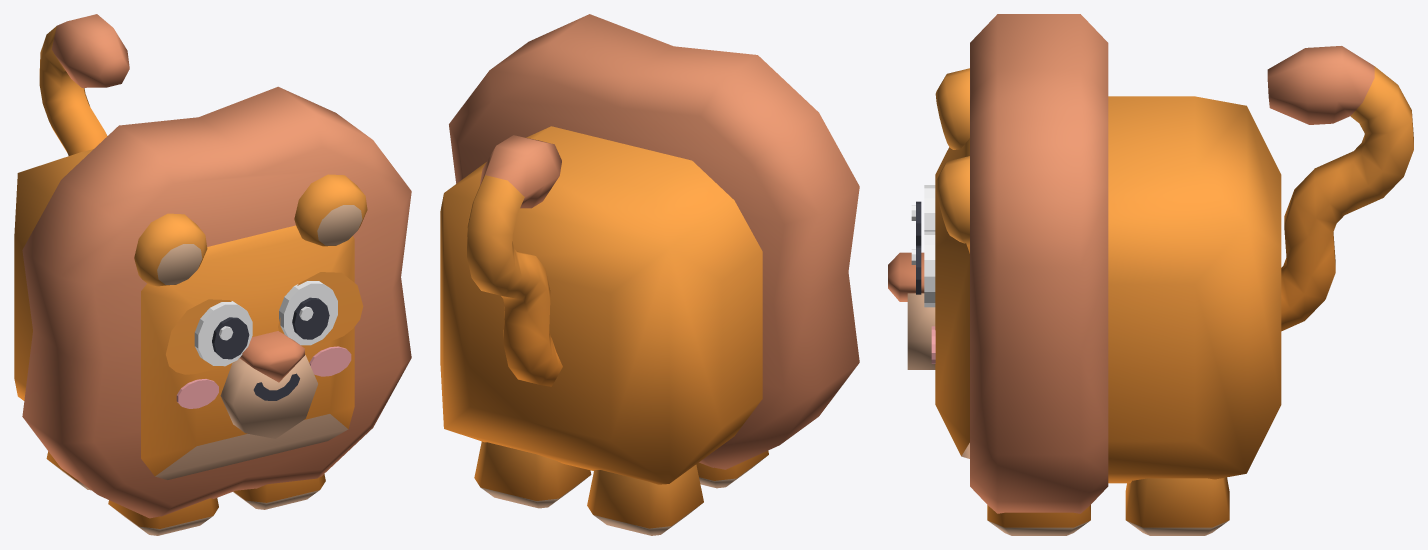
Rendered from lion.glb.
3 renders of one model, left to right at view 1: azimuth 30°, elevation 25°; view 2: azimuth 150°, elevation 25°; view 3: azimuth 270°, elevation 25°, orthographic. The views are drawn at different scales.
Parts seen in each view (by area): view 1: body, tail, leg-front-right, leg-front-left; view 2: body, tail, leg-back-right, leg-back-left, leg-front-right; view 3: body, tail, leg-back-left, leg-front-left.
Part boxes in pixels (x1,y1,x2,y2): body: [14, 86, 411, 518]; tail: [39, 14, 129, 155]; leg-front-right: [108, 498, 218, 535]; leg-front-left: [233, 474, 325, 509]; body: [440, 14, 859, 484]; tail: [467, 135, 562, 386]; leg-back-right: [587, 464, 703, 535]; leg-back-left: [474, 441, 591, 508]; leg-front-right: [696, 451, 768, 488]; body: [888, 14, 1281, 513]; tail: [1267, 46, 1413, 331]; leg-back-left: [1125, 477, 1229, 535]; leg-front-left: [987, 505, 1090, 535].
Size of the model in its own units: 1.65 by 1.75 by 1.9.
Materials: 1 (1 with a texture image).
